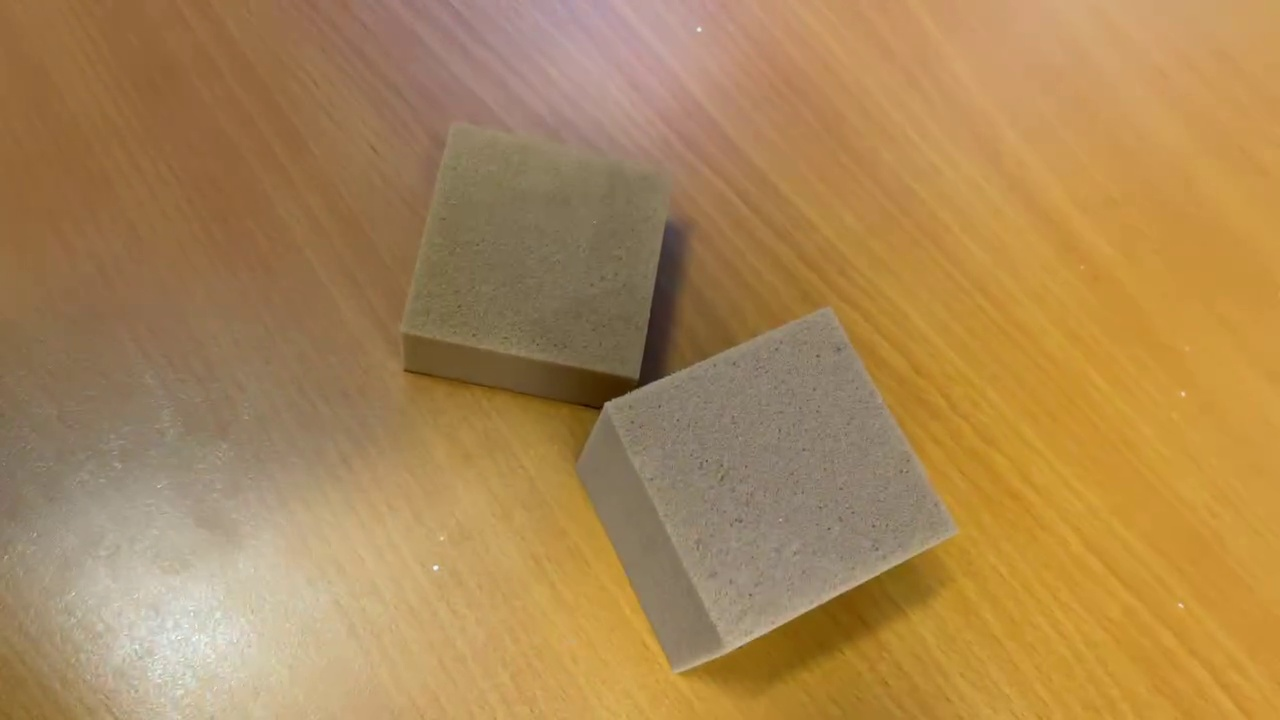Cube: (560, 296, 967, 679)
Cube_short: (392, 111, 671, 415)
